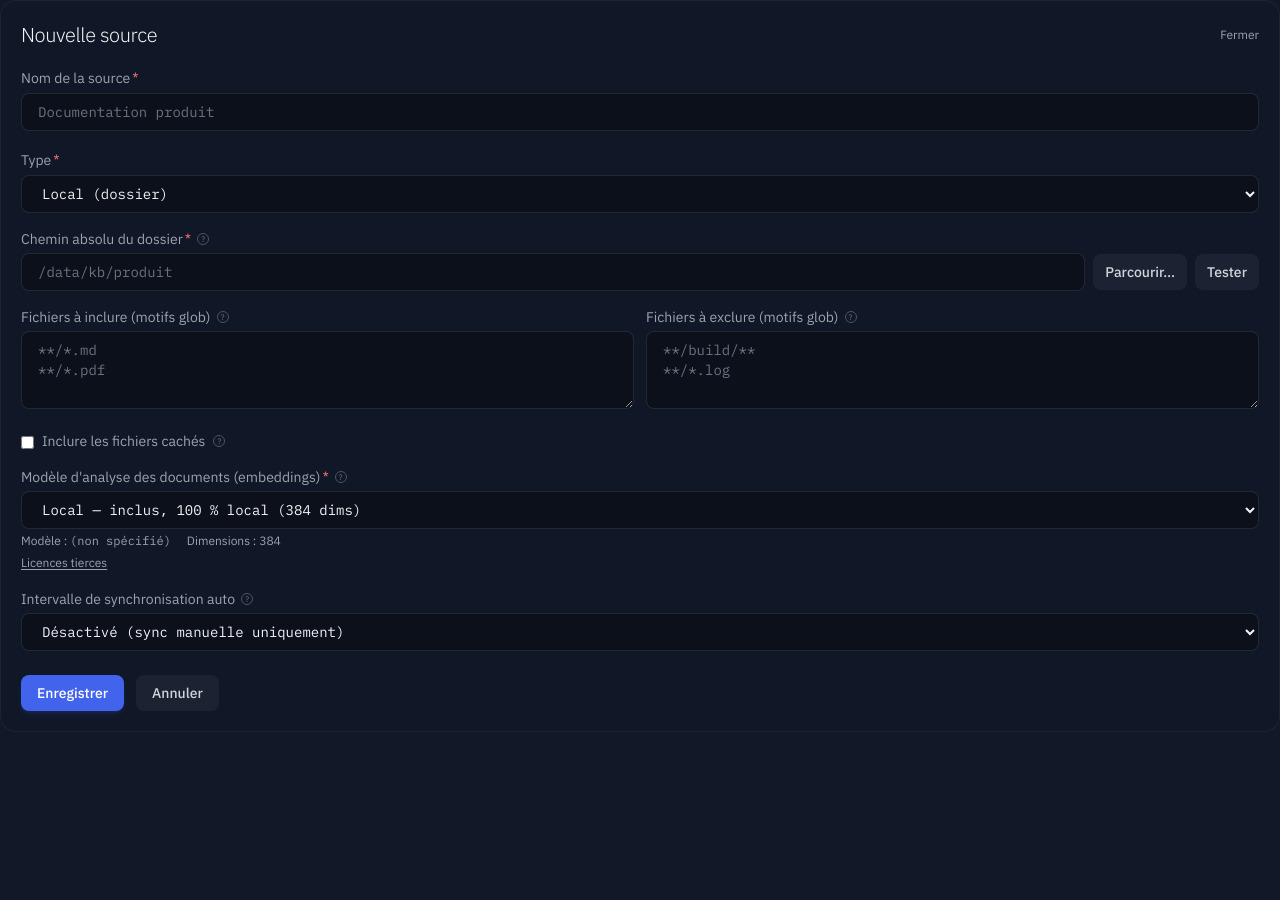
Test: SourceForm — collapsible "?" help › reveals the folder path explanation on mouse hover too
The width and height of the screenshot is (1280, 900).
Hover over the button named "Aide : Chemin absolu du dossier" at (203, 239), box [197, 233, 209, 245]
Wait 400 ms
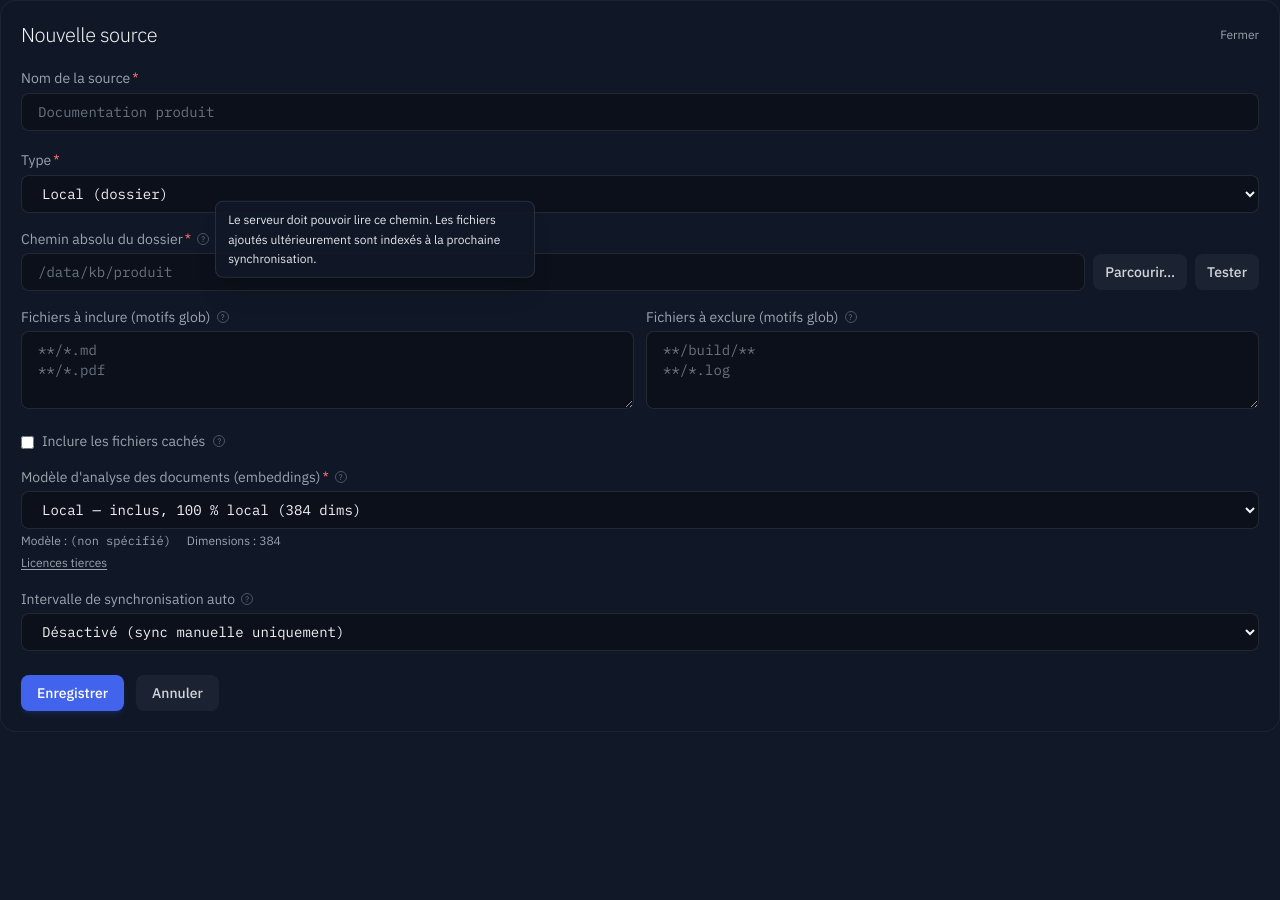
Now the tooltip shows "Le serveur doit pouvoir lire ce chemin", box [228, 212, 500, 266]
Move the pointer off the button named "Aide : Chemin absolu du dossier", box [197, 233, 209, 245]
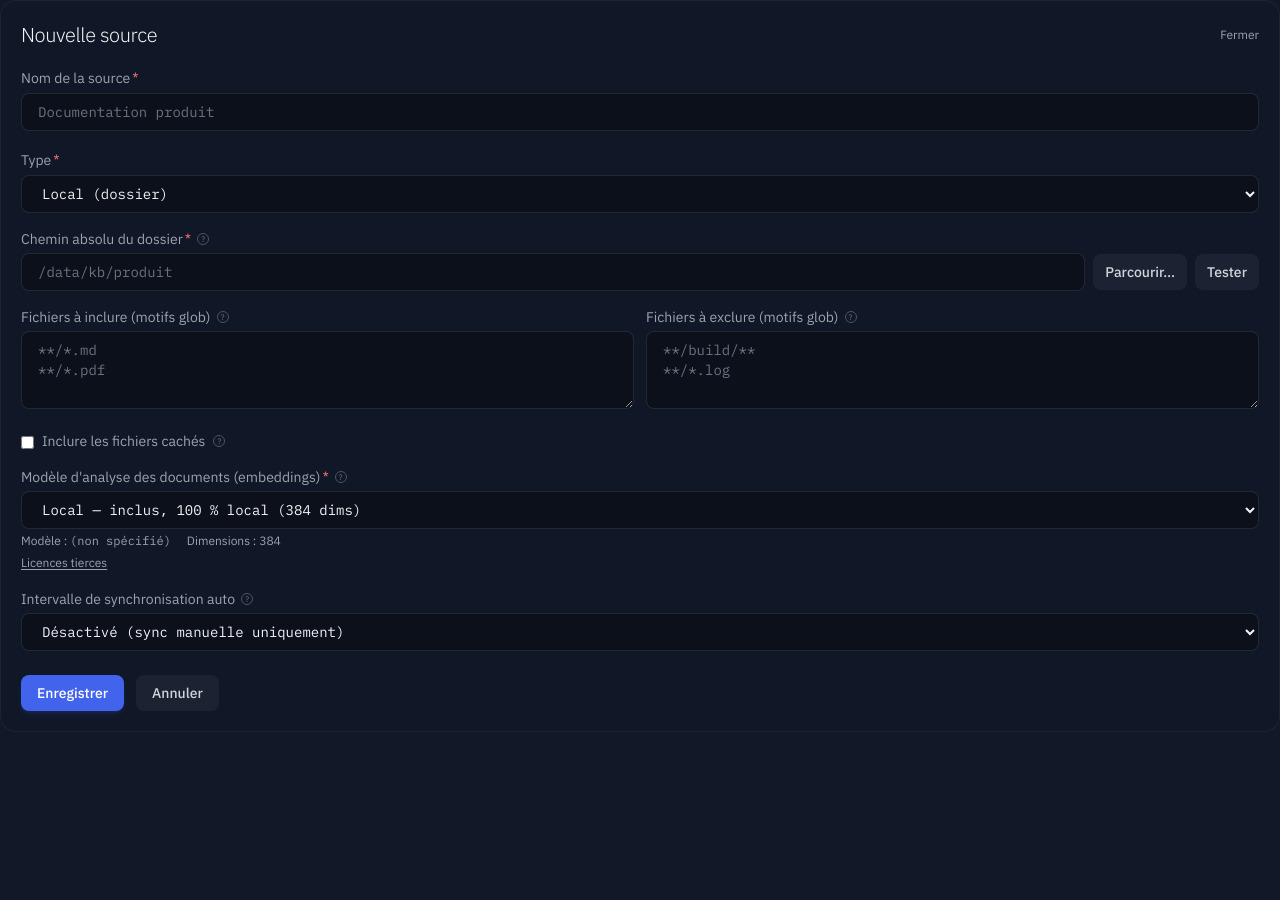
Now the tooltip is gone
